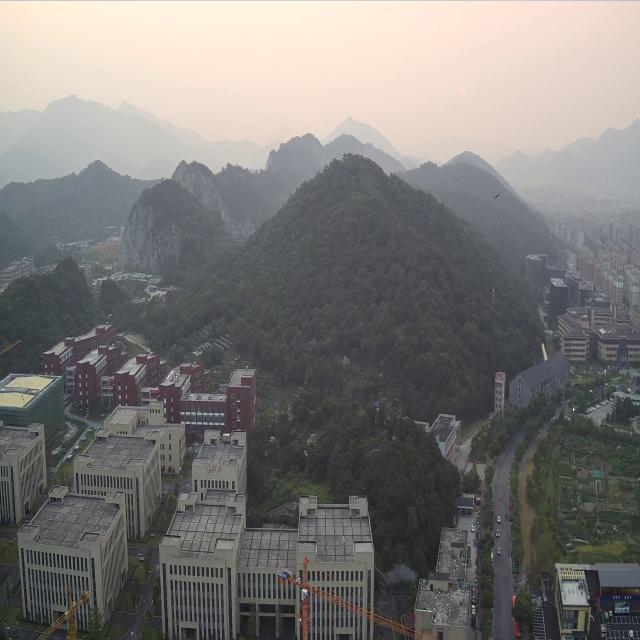drone: (494, 192, 501, 198)
